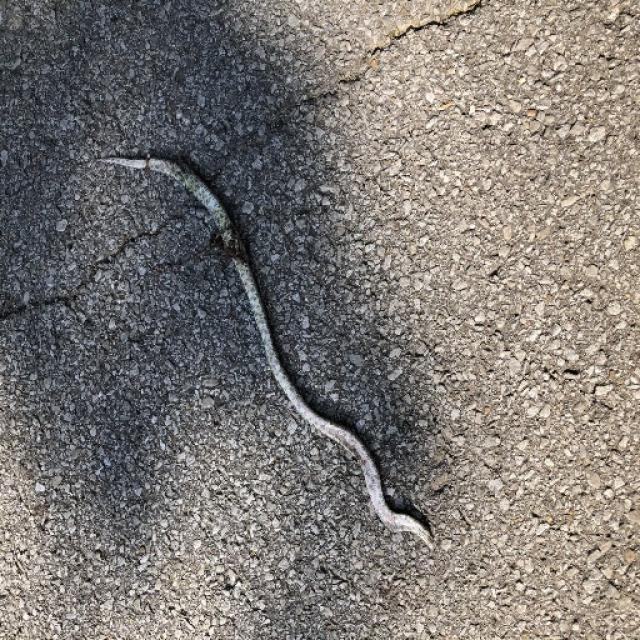snake: (94, 131, 450, 560)
